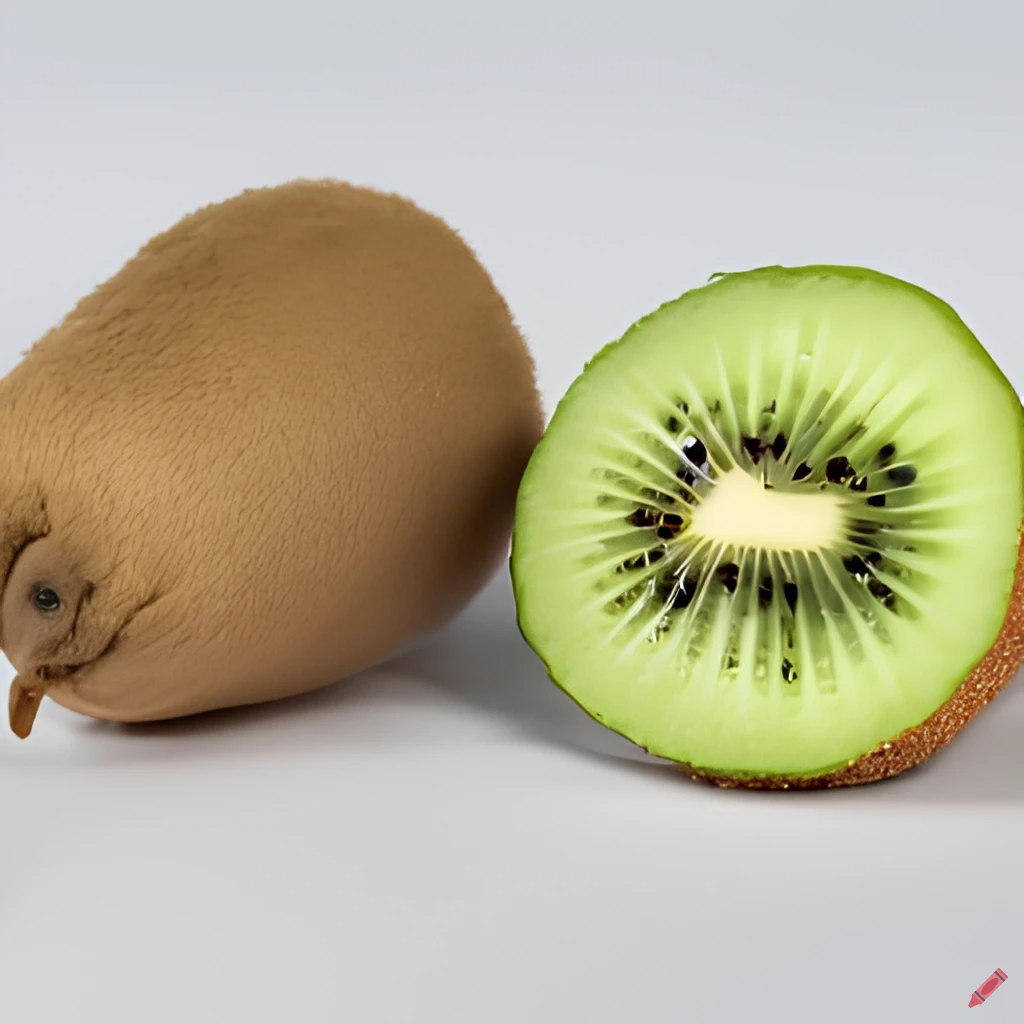Kiwi: (445, 237, 1024, 836)
